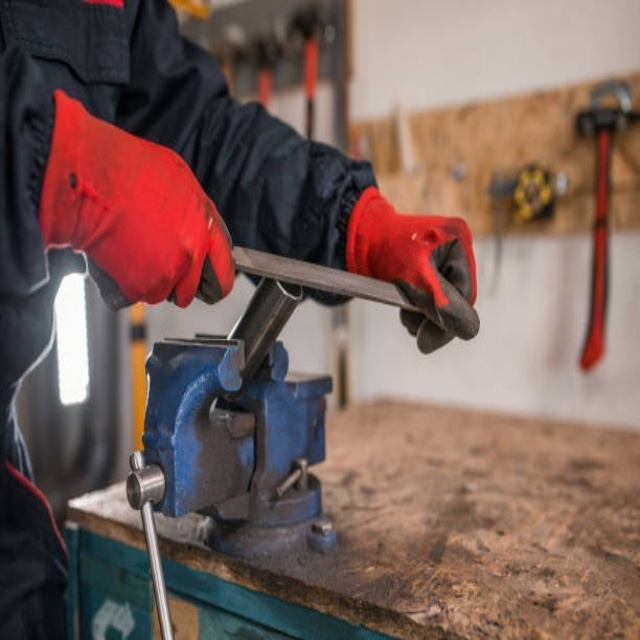Guantes: (42, 91, 235, 314), (345, 187, 478, 347)
